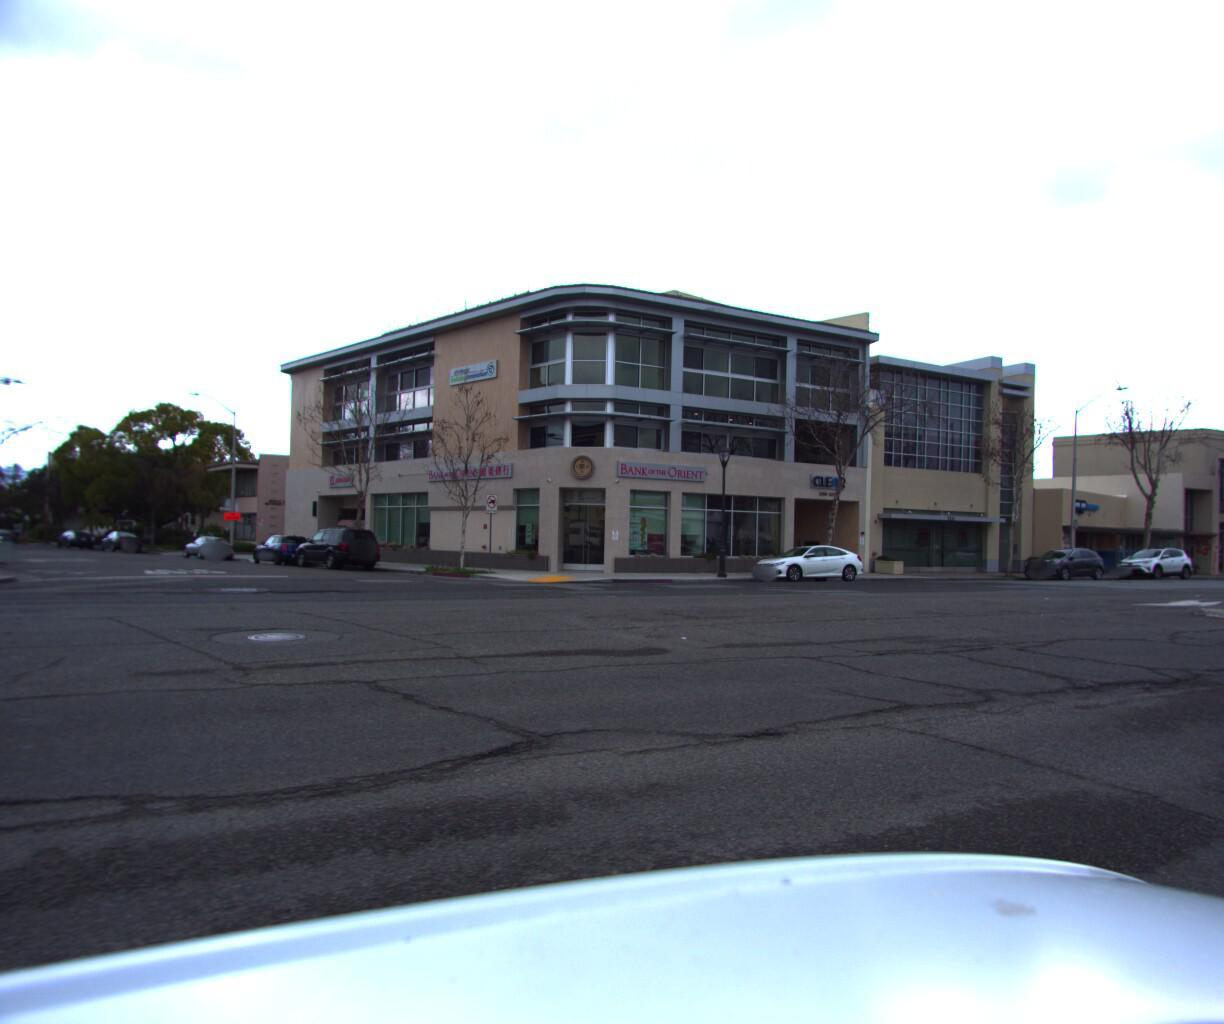car: (738, 537, 873, 582), (290, 523, 390, 569), (1102, 540, 1194, 579), (1009, 543, 1107, 579), (249, 529, 322, 565), (182, 530, 241, 558), (103, 529, 146, 551), (63, 528, 99, 547)
